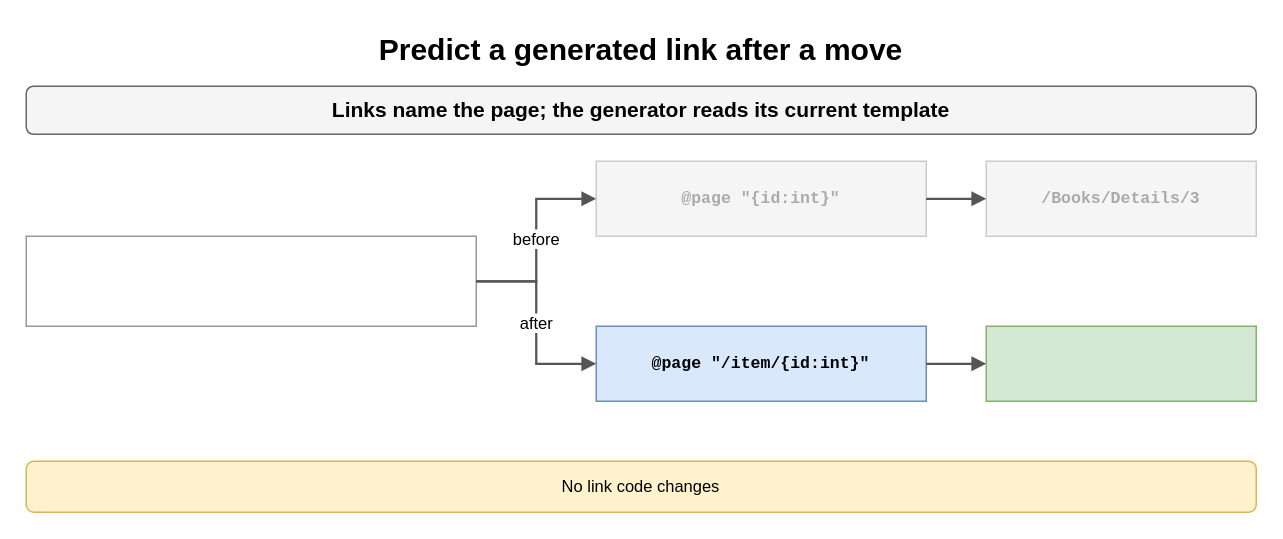
This 1283x539 diagram has some shape labels left out. The shapes that lost their labels are listed below. From the top down, each one's centre as x and y in pixels, then its label:
pixel 250 280: GetPathByPage("/Books/Details", values: new { id = 3 })
pixel 1120 363: /item/3
